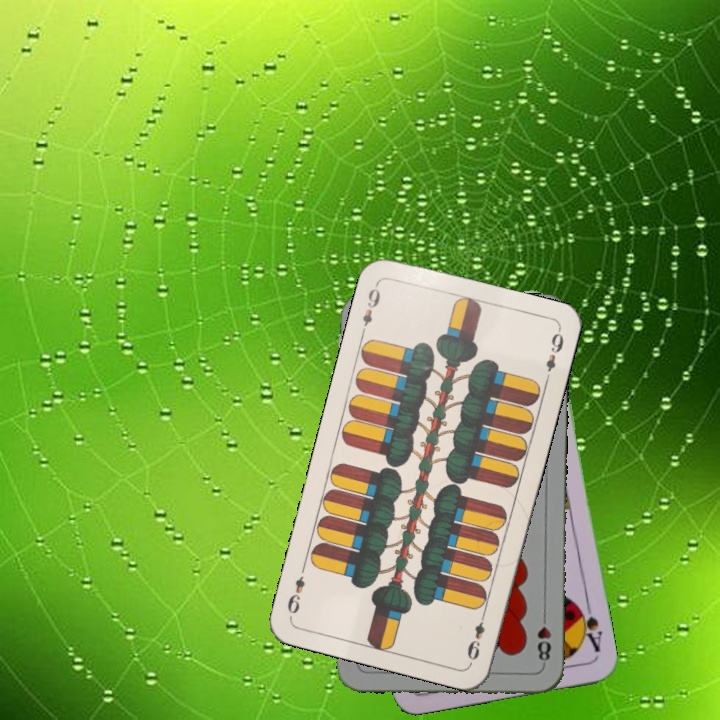E9: (463, 607, 489, 665), (357, 279, 383, 337)
H8: (533, 609, 553, 668)
SA: (573, 599, 605, 655)
